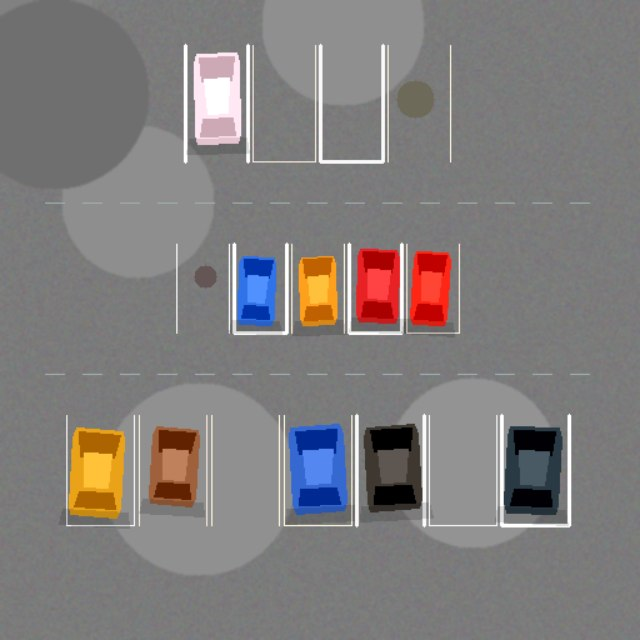space-empty: (211, 415, 279, 525), (429, 415, 496, 525), (252, 45, 315, 161), (320, 45, 382, 161), (388, 45, 450, 161), (176, 244, 229, 332)
space-occupied: (66, 415, 134, 525), (356, 415, 424, 525), (501, 415, 569, 525), (139, 415, 206, 525), (284, 415, 351, 525), (185, 45, 248, 161), (291, 244, 344, 332), (406, 244, 459, 332), (234, 244, 286, 332), (349, 244, 401, 332)
